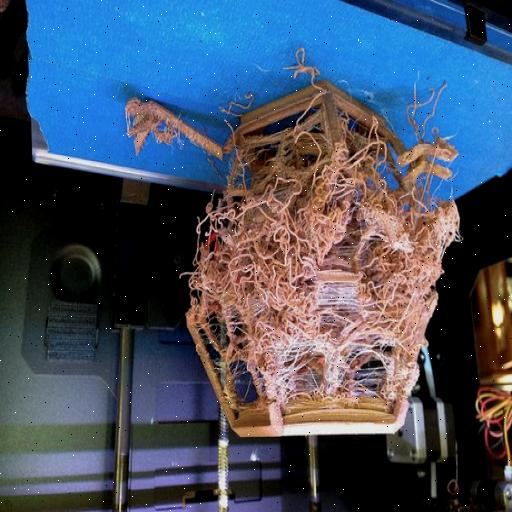spaghetti: (194, 64, 460, 400)
